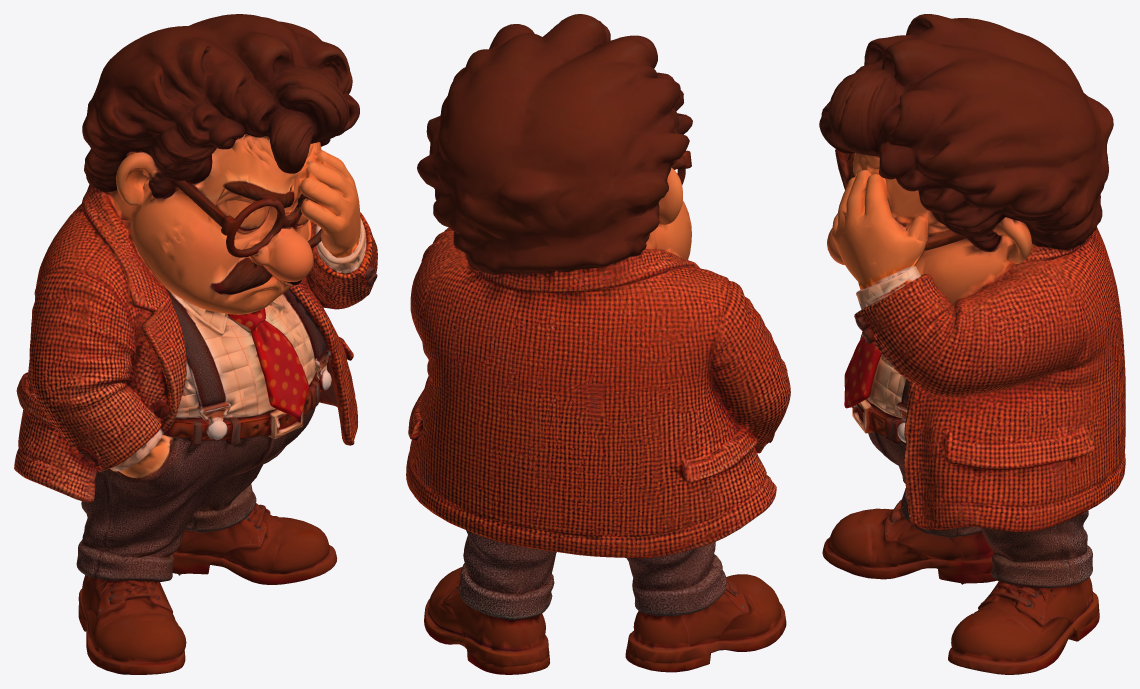
File: decepcionado.glb
The picture shows the model from 3 angles, left to right: view 1: azimuth 30°, elevation 25°; view 2: azimuth 150°, elevation 25°; view 3: azimuth 270°, elevation 25°; orthographic projection. The views are drawn at different scales.
Visible parts, largest first — view 1: tripo_node_b224ec4b-ade0-4f74-958c-f859ae7913b0; view 2: tripo_node_b224ec4b-ade0-4f74-958c-f859ae7913b0; view 3: tripo_node_b224ec4b-ade0-4f74-958c-f859ae7913b0.
Part boxes in pixels (x1=…): tripo_node_b224ec4b-ade0-4f74-958c-f859ae7913b0: x1=14, y1=14, x2=377, y2=674; tripo_node_b224ec4b-ade0-4f74-958c-f859ae7913b0: x1=406, y1=14, x2=790, y2=674; tripo_node_b224ec4b-ade0-4f74-958c-f859ae7913b0: x1=819, y1=14, x2=1125, y2=674.
Size of the model in its own units: 0.5967 by 0.9711 by 0.4587.
1 material, 1 textured.
